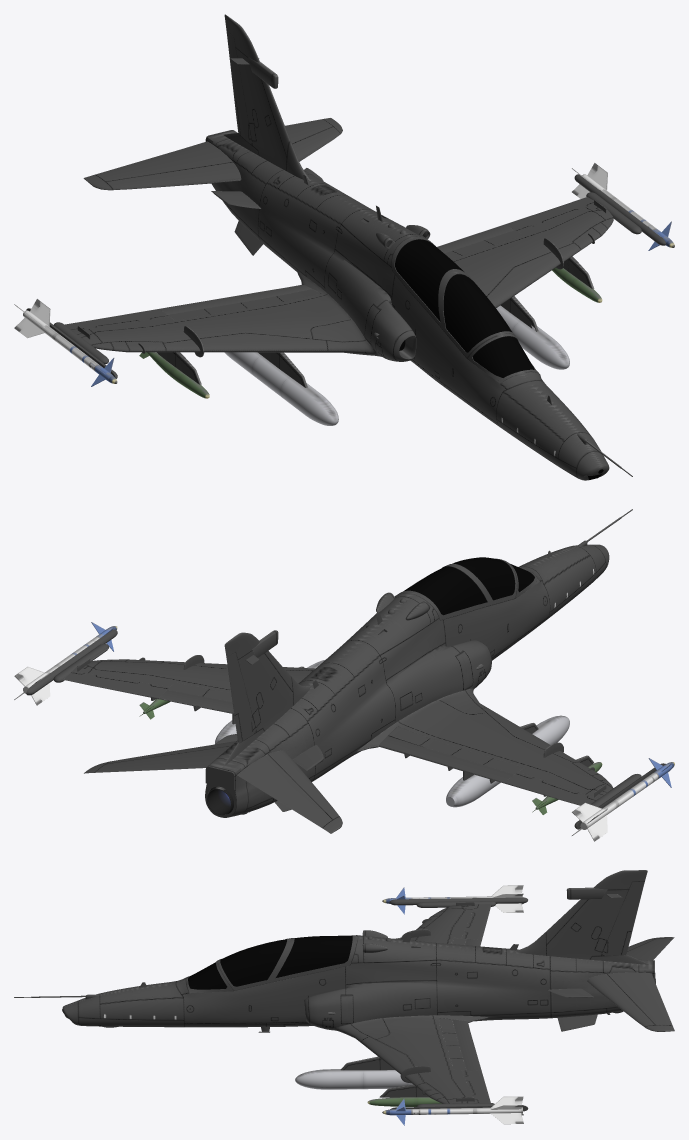
The model's file is Hawk_T2_v7.fbx.
3 renders of one model, top to bottom at view 1: azimuth 30°, elevation 25°; view 2: azimuth 150°, elevation 25°; view 3: azimuth 270°, elevation 25°, orthographic. The views are drawn at different scales.
Visible parts, largest first — view 1: Fuselage, Canopy, ElevatorR, Tail, TankR, AIM-9R, TankL, CanopyFront, ElevatorL, ArcBack, FlapR, AIM-9L (+6 smaller); view 2: Fuselage, Tail, Canopy, ElevatorR, ElevatorL, TankR, AIM-9R, FlapR, AirBrakeR, Rudder, AileronL, AileronR (+6 smaller); view 3: Fuselage, Tail, Canopy, ElevatorL, TankL, AIM-9L, Rudder, ArcBack, AIM-9R, FlapL, AirBrakeL, CanopyFront (+9 smaller).
Boxes of the visible parts, bbox=[...] form: Fuselage: bbox=[73, 130, 613, 480]; Canopy: bbox=[395, 239, 512, 352]; ElevatorR: bbox=[83, 141, 241, 190]; Tail: bbox=[223, 14, 310, 180]; TankR: bbox=[224, 352, 338, 425]; AIM-9R: bbox=[14, 299, 117, 386]; TankL: bbox=[496, 305, 569, 369]; CanopyFront: bbox=[472, 336, 534, 377]; ElevatorL: bbox=[285, 118, 342, 161]; ArcBack: bbox=[391, 236, 515, 358]; FlapR: bbox=[159, 285, 319, 314]; AIM-9L: bbox=[572, 163, 674, 250]; Fuselage: bbox=[73, 544, 613, 817]; Tail: bbox=[223, 632, 310, 766]; Canopy: bbox=[403, 557, 515, 615]; ElevatorR: bbox=[237, 750, 342, 833]; ElevatorL: bbox=[84, 741, 236, 773]; TankR: bbox=[446, 715, 569, 807]; AIM-9R: bbox=[572, 758, 674, 841]; FlapR: bbox=[379, 736, 514, 783]; AirBrakeR: bbox=[388, 726, 523, 774]; Rudder: bbox=[226, 652, 255, 742]; AileronL: bbox=[63, 671, 169, 698]; AileronR: bbox=[504, 772, 597, 805]; Fuselage: bbox=[62, 904, 655, 1103]; Tail: bbox=[515, 870, 649, 964]; Canopy: bbox=[220, 935, 352, 986]; ElevatorL: bbox=[587, 972, 674, 1031]; TankL: bbox=[295, 1069, 412, 1089]; AIM-9L: bbox=[382, 1096, 523, 1125]; Rudder: bbox=[602, 881, 644, 955]; ArcBack: bbox=[218, 935, 357, 990]; AIM-9R: bbox=[382, 885, 523, 914]; FlapL: bbox=[452, 1019, 481, 1070]; AirBrakeL: bbox=[438, 1018, 466, 1070]; CanopyFront: bbox=[188, 962, 227, 989].
Bounding box in the file's own units: 1072 × 397 × 1360.
Materials: 2 (1 with a texture image).
